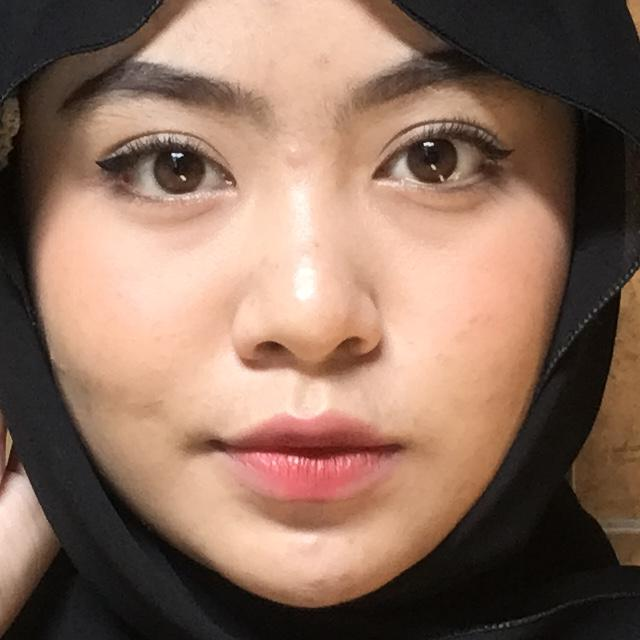ibu: (0, 266, 220, 640)
